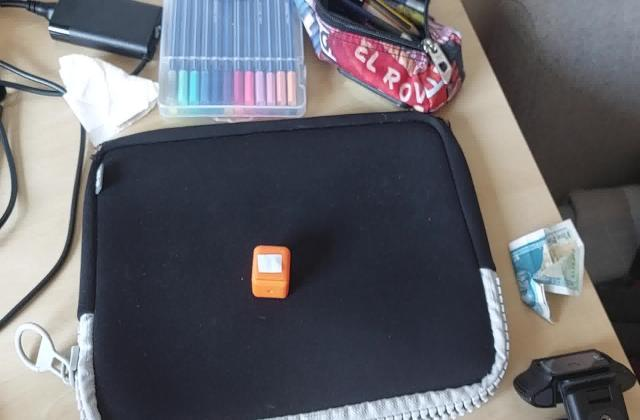sticker: (251, 244, 293, 300)
white: (256, 251, 286, 275)
